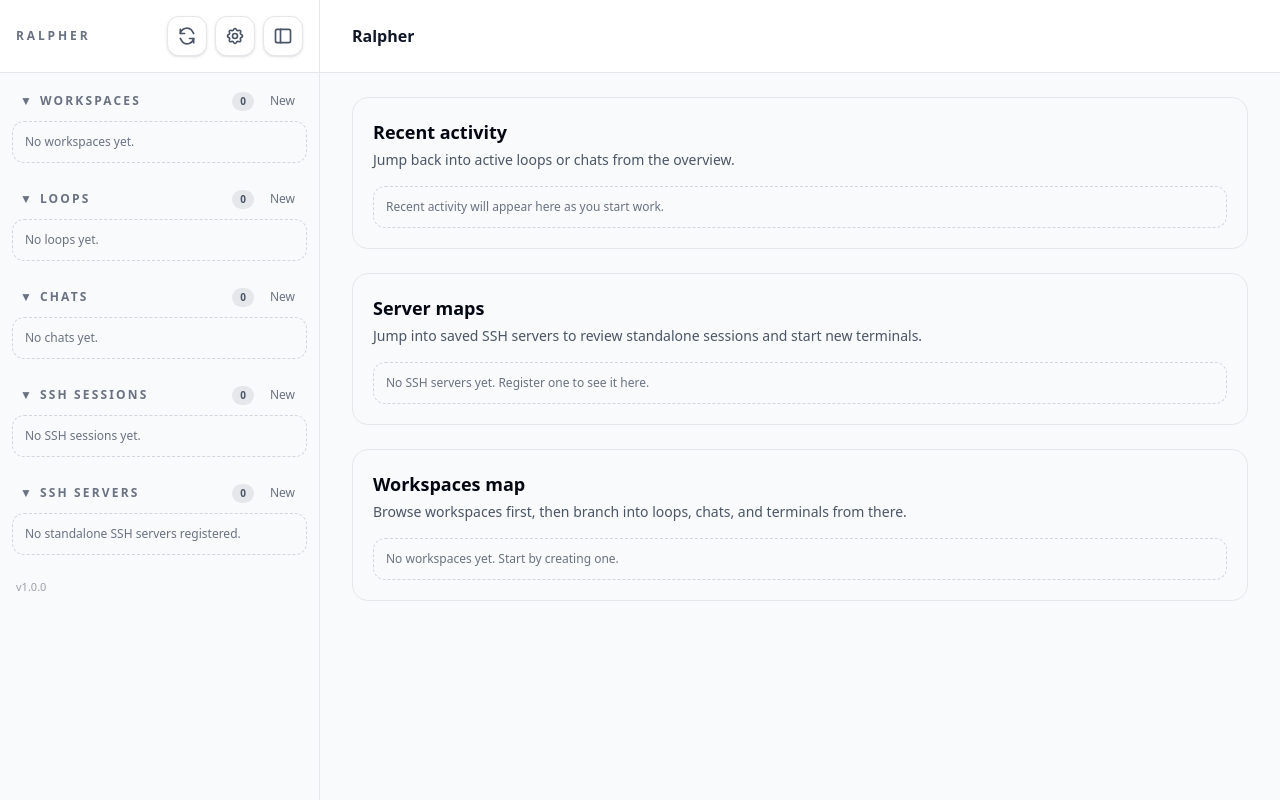
Test case: workspace management scenario › cancel create workspace returns to the overview
Expected: the heading "Ralpher" is shown, [352,24,414,48]
Click the 1st button "New": point(282, 101) [262,89,303,113]
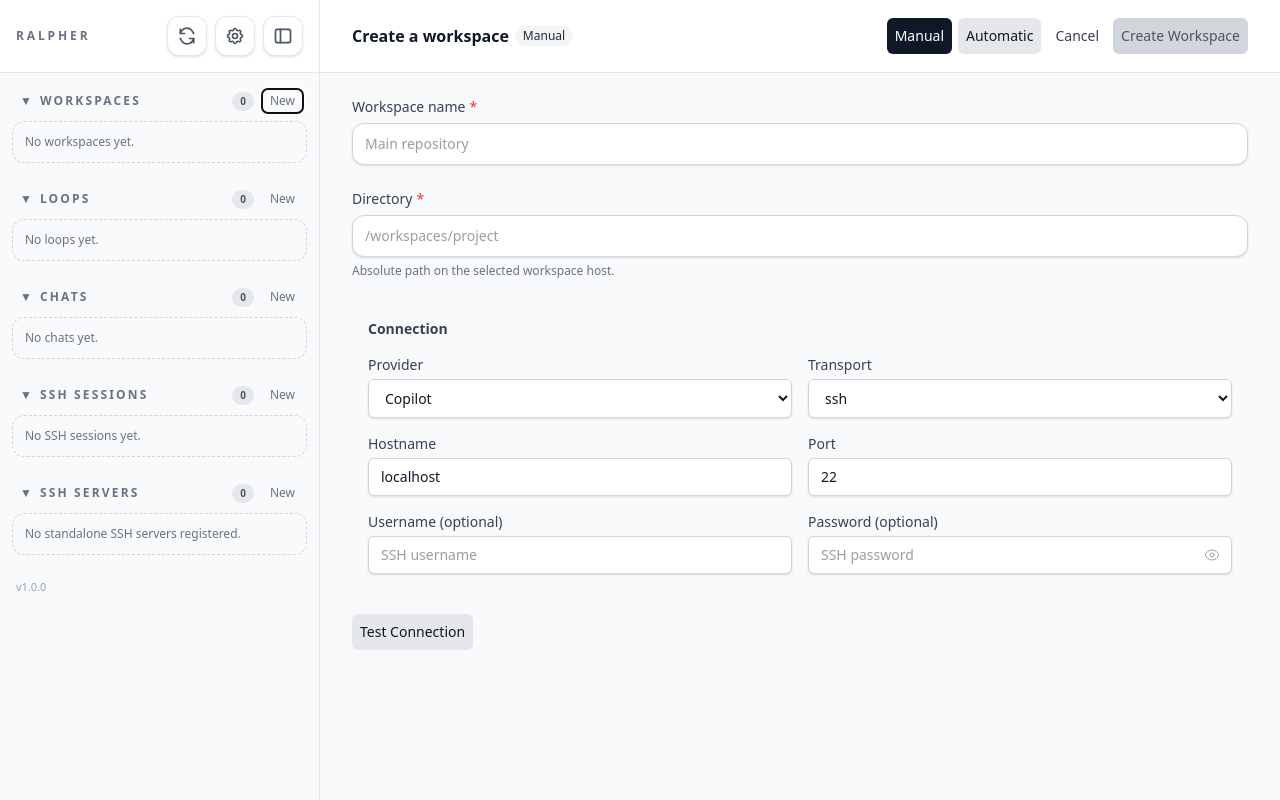
Expected: the heading "Create a workspace" is shown, [352,24,509,48]
Click the button "Cancel": point(1077, 36) [1048,18,1107,54]
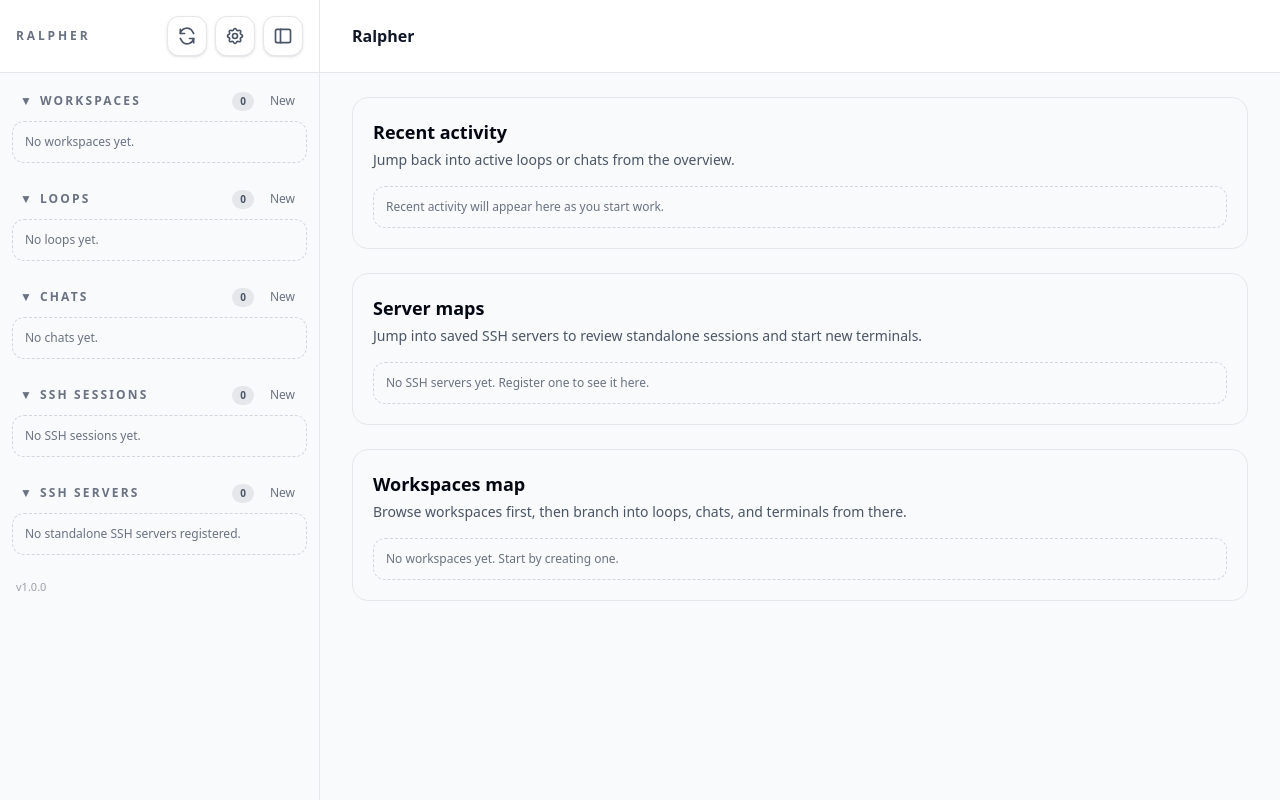
Expected: the heading "Ralpher" is shown, [352,24,414,48]
